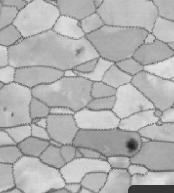good_void: (122, 137, 138, 155), (75, 46, 87, 56), (138, 103, 146, 110), (10, 111, 14, 118), (3, 106, 7, 112)
